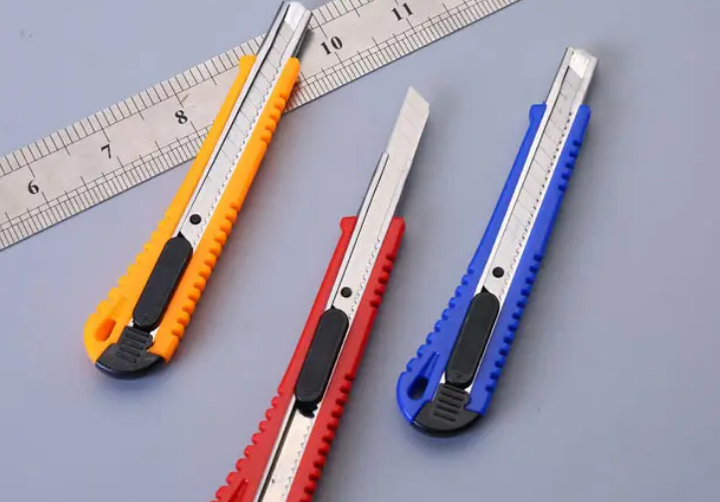cutter: (209, 85, 434, 499), (81, 1, 314, 381), (396, 44, 600, 438)
